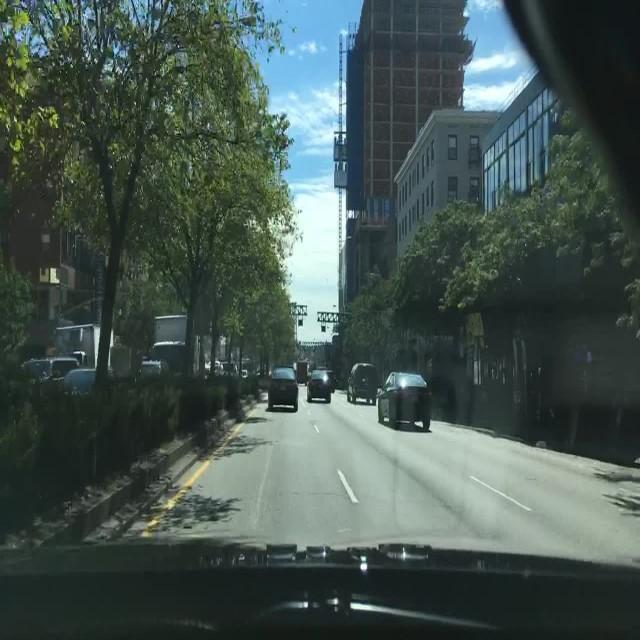normal: (265, 364, 302, 410), (346, 360, 380, 402), (309, 367, 336, 400)
